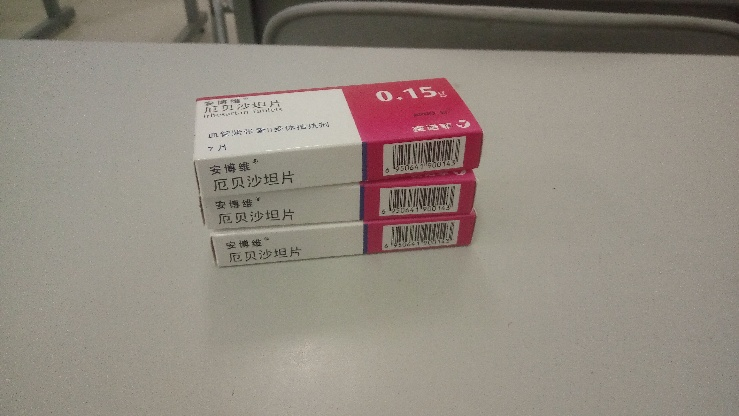pillbox: (195, 81, 484, 181), (207, 222, 484, 266), (195, 184, 476, 221)
